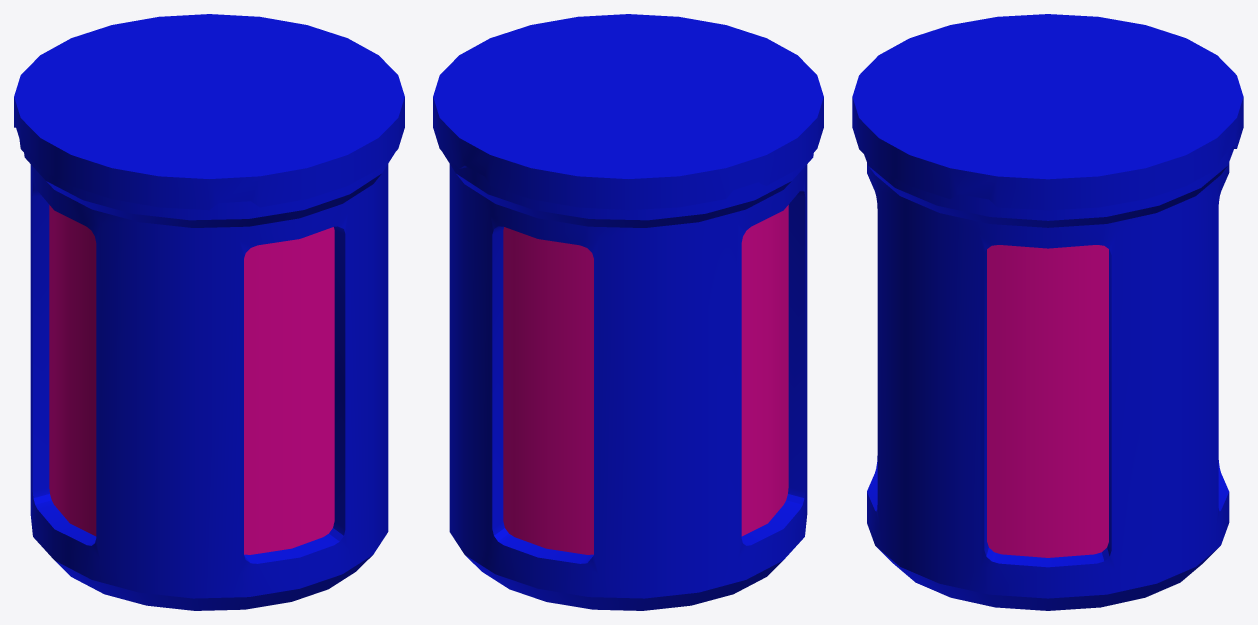
File: SM_Tank_Pool.fbx
The picture shows the model from 3 angles, left to right: view 1: azimuth 30°, elevation 25°; view 2: azimuth 150°, elevation 25°; view 3: azimuth 270°, elevation 25°; orthographic projection.
Visible parts, largest first — view 1: SM_Tank_Pool, SM_Tank_Pool_Top; view 2: SM_Tank_Pool, SM_Tank_Pool_Top; view 3: SM_Tank_Pool, SM_Tank_Pool_Top.
Boxes of the visible parts, x1,y1,x2,y2 form: SM_Tank_Pool: (24,152,395,610); SM_Tank_Pool_Top: (14,14,404,210); SM_Tank_Pool: (442,152,813,610); SM_Tank_Pool_Top: (433,14,823,210); SM_Tank_Pool: (864,148,1233,610); SM_Tank_Pool_Top: (852,14,1243,210).
Bounding box in the file's own units: 12.77 × 16.09 × 12.77.
